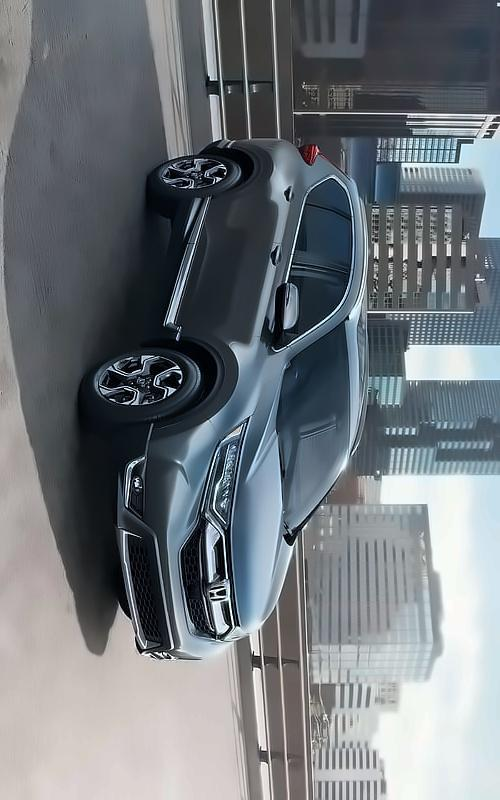Car hood: (230, 359, 301, 634)
Driver-s door - -F-R-: (162, 241, 364, 344)
Fender - -F-R-: (165, 323, 298, 438)
Fender - -R-R-: (216, 140, 322, 175)
Front bumper: (109, 406, 217, 672)
Headlight - -L-: (218, 616, 253, 650)
Headlight - -R-: (198, 412, 251, 531)
Passenger-s door - -R-R-: (190, 173, 369, 254)
Rear bumper: (193, 128, 263, 168)
Rear light - -R-: (287, 132, 327, 167)
Side mirror - -R-: (269, 270, 307, 345)
